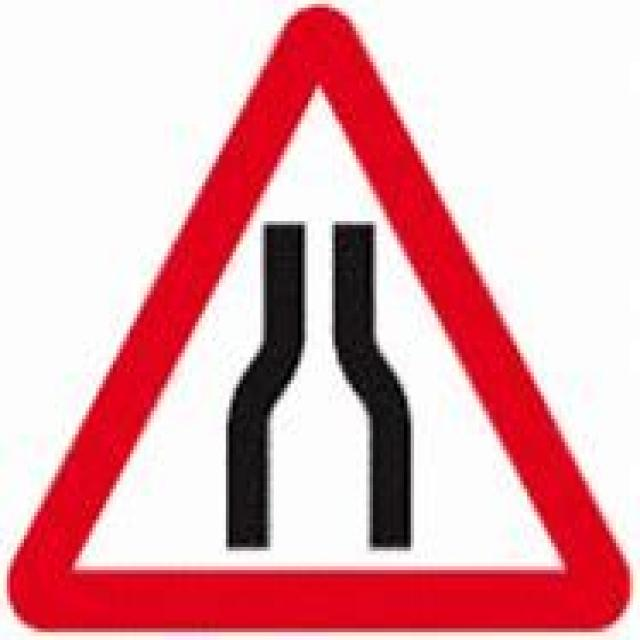NARROW_ROAD_AHEAD: (10, 6, 633, 632)
